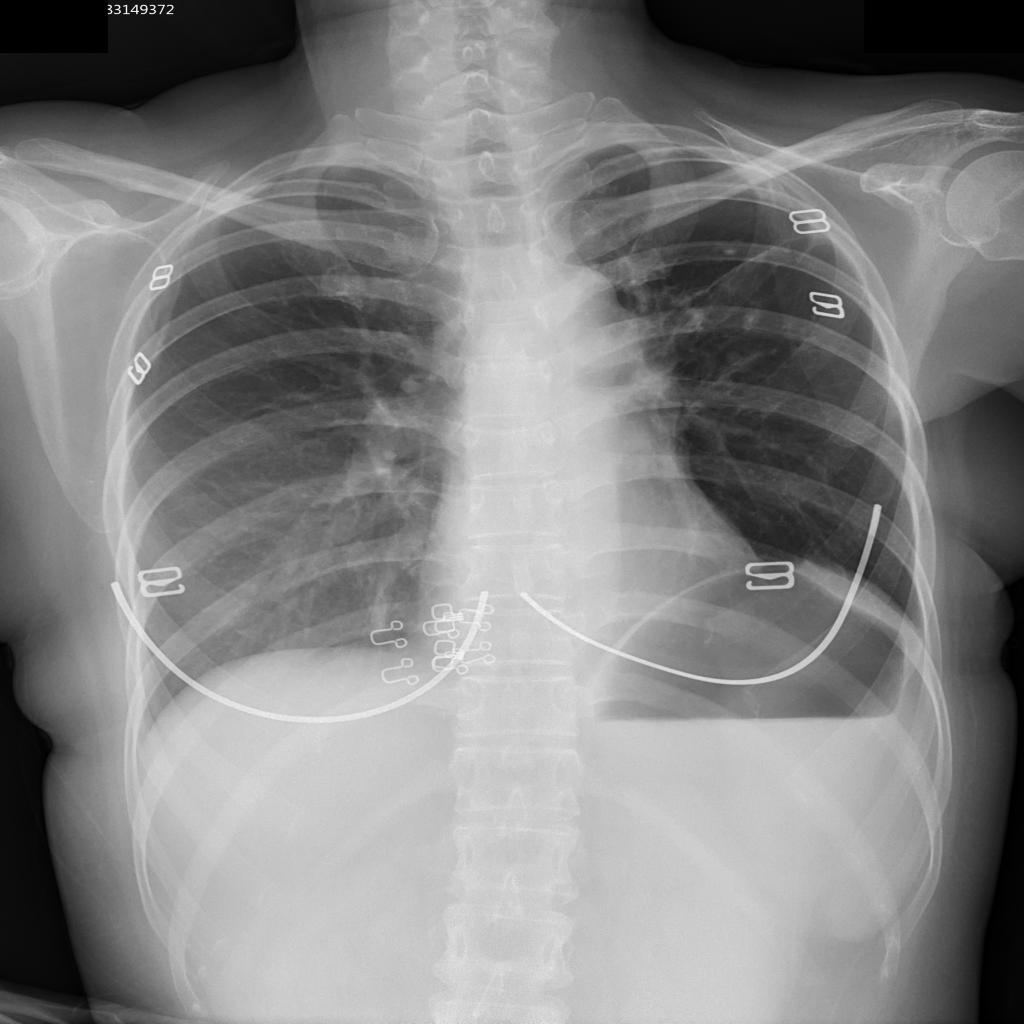Nodule: (742, 311, 762, 332), (723, 246, 744, 258)
